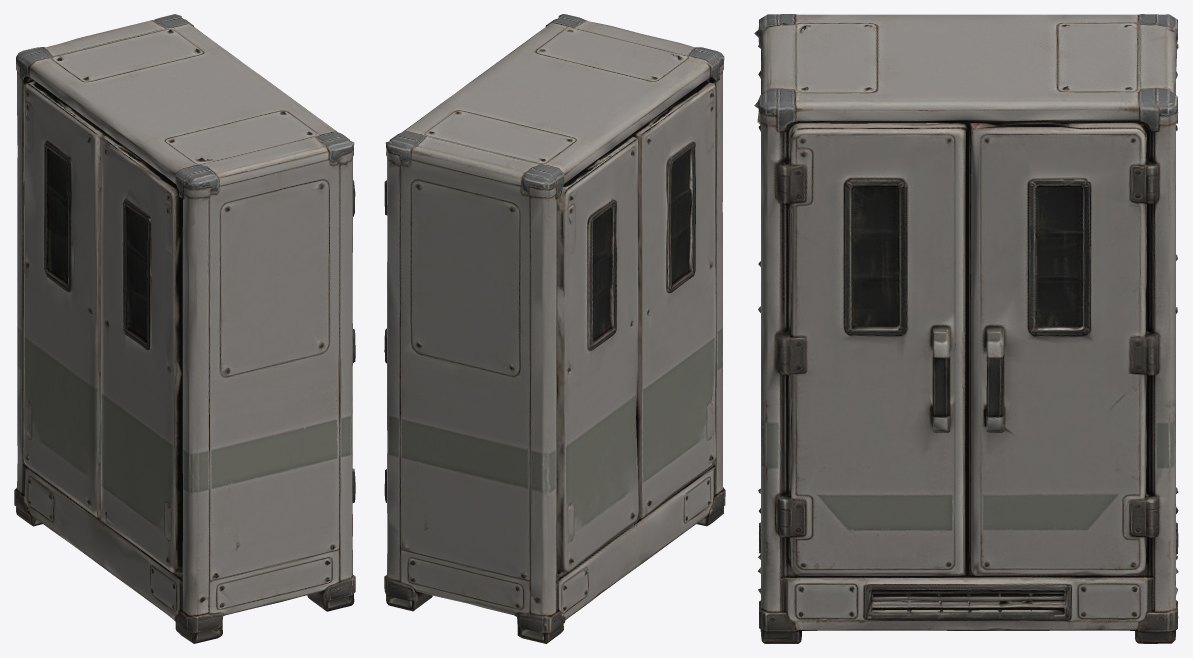
The model's file is PROP-SAMPLE-CABINET.glb.
3 renders of one model, left to right at view 1: azimuth 30°, elevation 25°; view 2: azimuth 150°, elevation 25°; view 3: azimuth 270°, elevation 25°, orthographic. The views are drawn at different scales.
Parts seen in each view (by area): view 1: tripo_node_b7566df9-bdcd-4133-bbac-c01576ba79ca; view 2: tripo_node_b7566df9-bdcd-4133-bbac-c01576ba79ca; view 3: tripo_node_b7566df9-bdcd-4133-bbac-c01576ba79ca.
Part boxes in pixels (<box>): tripo_node_b7566df9-bdcd-4133-bbac-c01576ba79ca: <box>14,14,355,643</box>; tripo_node_b7566df9-bdcd-4133-bbac-c01576ba79ca: <box>384,14,725,643</box>; tripo_node_b7566df9-bdcd-4133-bbac-c01576ba79ca: <box>754,14,1178,643</box>.
Bounding box in the file's own units: 0.4397 × 1 × 0.7073.
1 material, 1 textured.
